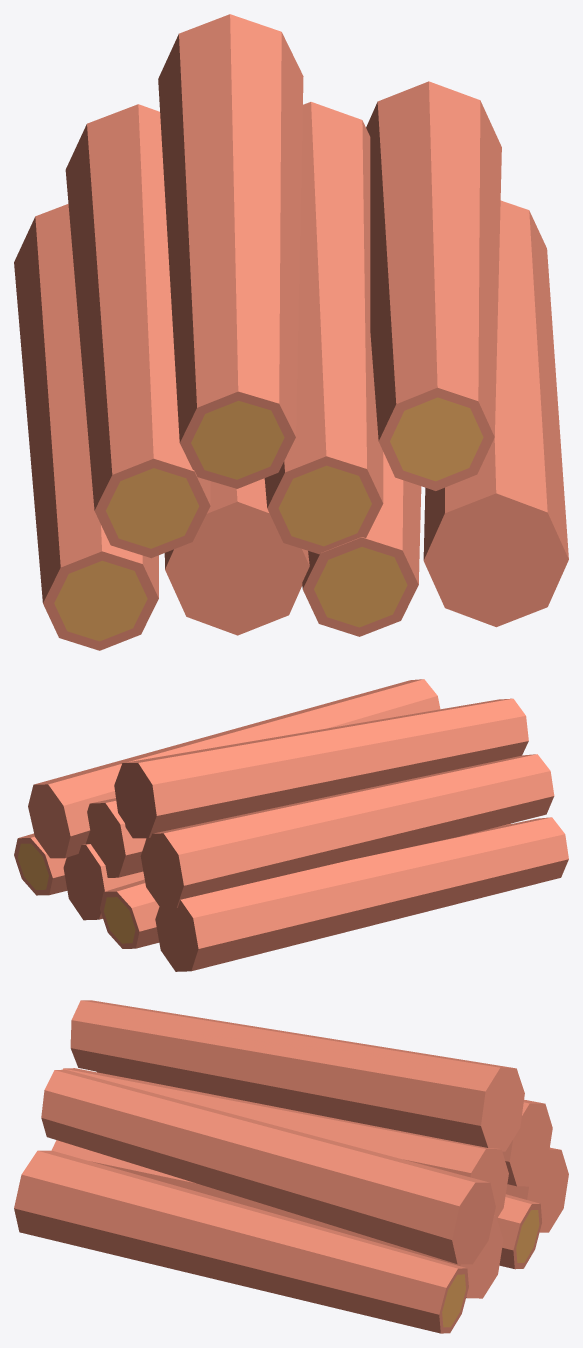
Rendered from cocoa_logs.fbx.
3 views of the same model, one above another, from view 1: azimuth 30°, elevation 25°; view 2: azimuth 150°, elevation 25°; view 3: azimuth 270°, elevation 25° (orthographic). The views are drawn at different scales.
Visible parts, largest first — view 1: cocoa.004; view 2: cocoa.004; view 3: cocoa.004.
Boxes of the visible parts, x1,y1,x2,y2 form: cocoa.004: (14,14,568,650); cocoa.004: (14,679,568,971); cocoa.004: (14,1000,568,1333).
Bounding box in the file's own units: 279 × 114 × 289.
